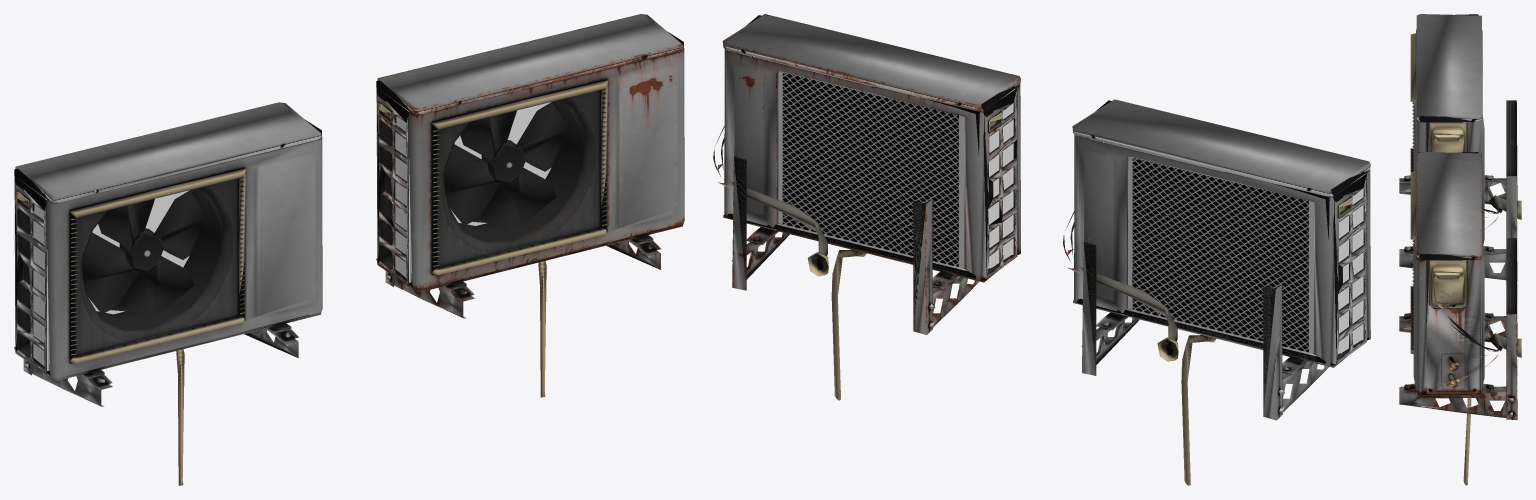
The model's file is exterior_aircon_unit.glb.
The picture shows the model from 3 angles, left to right: view 1: azimuth 30°, elevation 25°; view 2: azimuth 150°, elevation 25°; view 3: azimuth 270°, elevation 25°; orthographic projection. The views are drawn at different scales.
Parts seen in each view (by area): view 1: exterior_aircon_unit, exterior_aircon_unit_rusted; view 2: exterior_aircon_unit, exterior_aircon_unit_rusted; view 3: exterior_aircon_unit_rusted, exterior_aircon_unit.
Boxes of the visible parts, left/top/right/bottom form: exterior_aircon_unit: left=14, top=102, right=322, bottom=485; exterior_aircon_unit_rusted: left=376, top=14, right=684, bottom=397; exterior_aircon_unit: left=1063, top=99, right=1370, bottom=485; exterior_aircon_unit_rusted: left=713, top=14, right=1020, bottom=400; exterior_aircon_unit_rusted: left=1399, top=152, right=1521, bottom=485; exterior_aircon_unit: left=1399, top=14, right=1521, bottom=282.
Bounding box in the file's own units: 1.8 × 0.9225 × 0.3742.
Materials: 4 (4 with a texture image).
